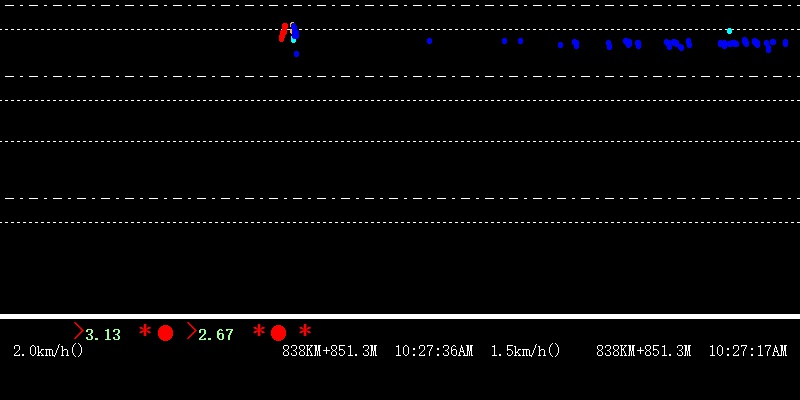circle: (155, 323, 172, 342), (268, 325, 286, 341)
face_1: (724, 26, 733, 36)
face_2: (277, 21, 298, 46)
star: (136, 321, 151, 338), (250, 323, 265, 338), (298, 322, 311, 337)
